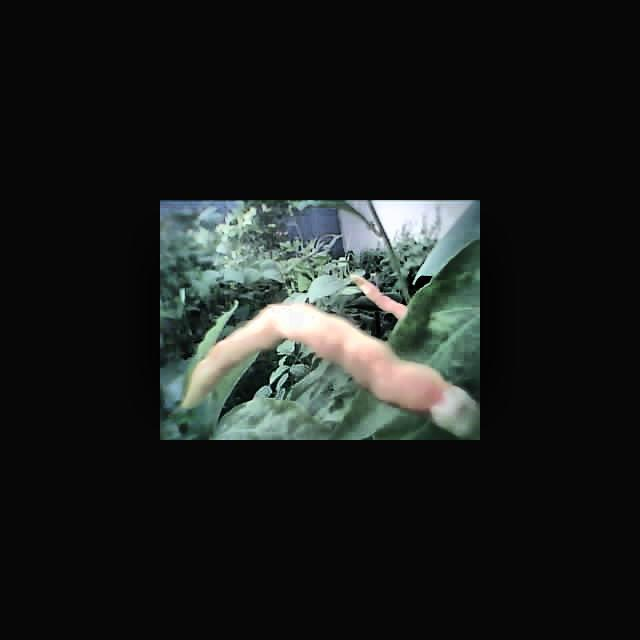Cabai: (273, 300, 458, 406), (346, 278, 413, 310)
